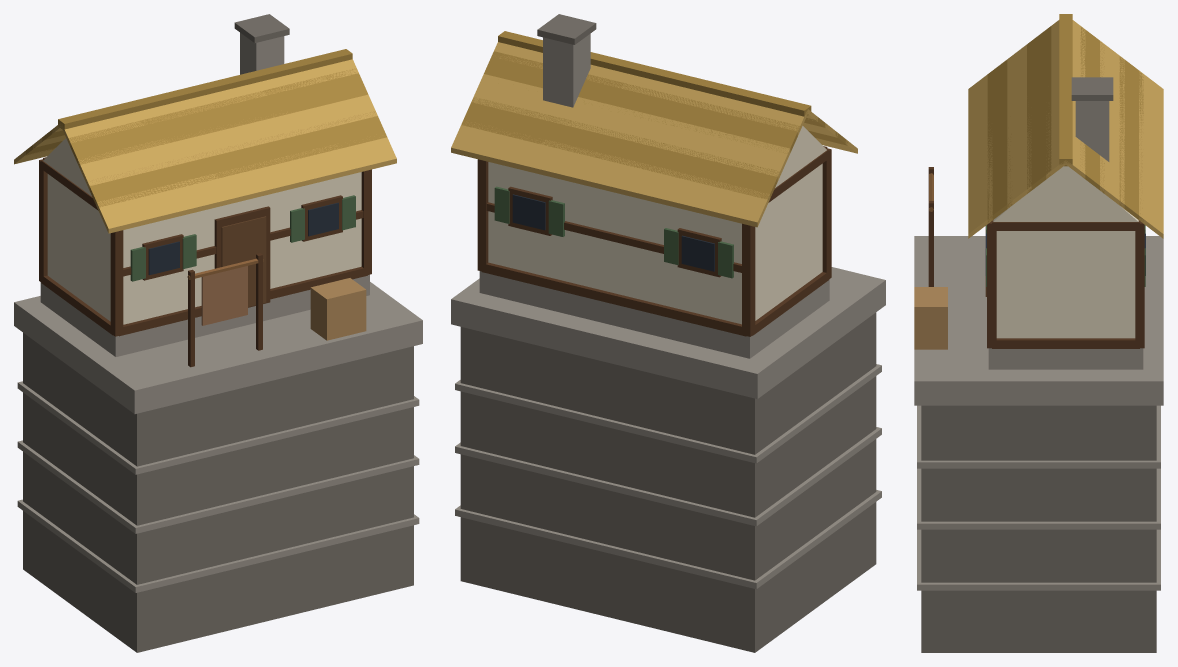
File: hunter.glb
3 views of the same model, side by side, from view 1: azimuth 30°, elevation 25°; view 2: azimuth 150°, elevation 25°; view 3: azimuth 270°, elevation 25° (orthographic). The views are drawn at different scales.
Visible parts, largest first — view 1: hunter; view 2: hunter; view 3: hunter.
Part boxes in pixels (<box>): hunter: <box>14,14,422,652</box>; hunter: <box>451,14,885,652</box>; hunter: <box>914,14,1163,652</box>.
Bounding box in the file's own units: 5.1 × 8.72 × 3.7.
